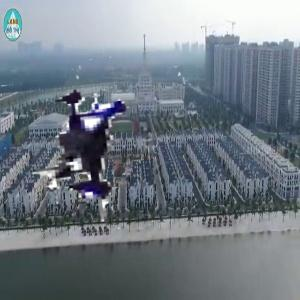drone: (18, 48, 210, 240)
